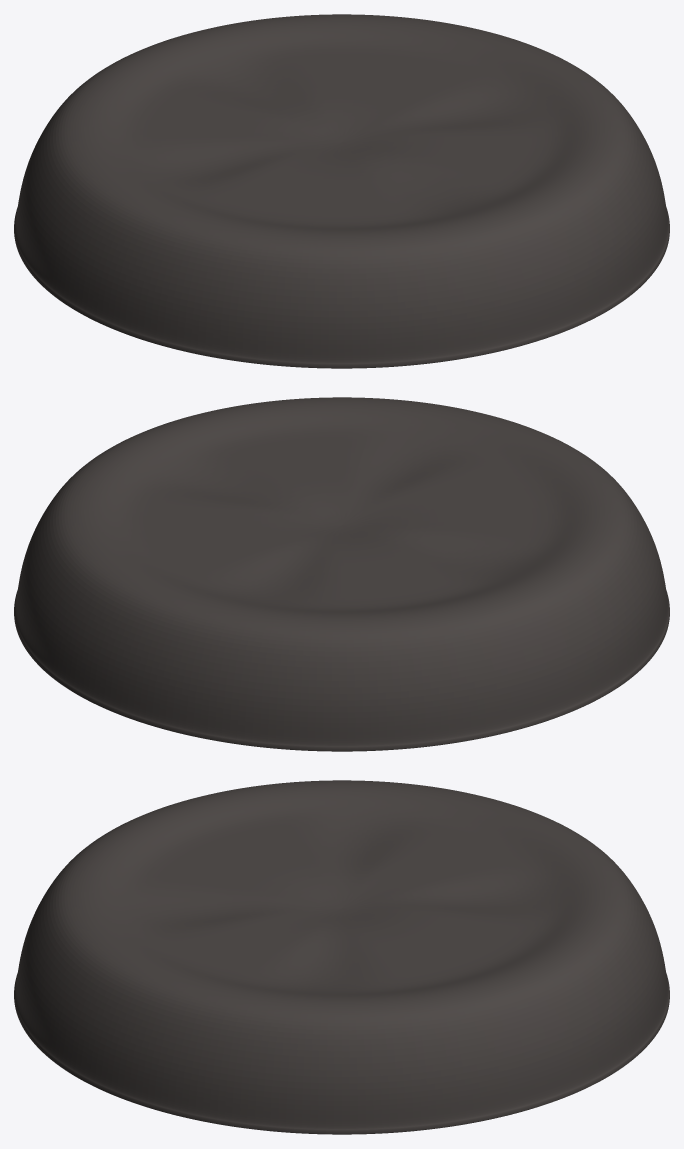
Rendered from ThinMint.obj.
3 views of the same model, one above another, from view 1: azimuth 30°, elevation 25°; view 2: azimuth 150°, elevation 25°; view 3: azimuth 270°, elevation 25° (orthographic).
Visible parts, largest first — view 1: Thin_Mint_Cylinder.001; view 2: Thin_Mint_Cylinder.001; view 3: Thin_Mint_Cylinder.001.
Part boxes in pixels (x1=…): Thin_Mint_Cylinder.001: x1=14, y1=14, x2=669, y2=368; Thin_Mint_Cylinder.001: x1=14, y1=397, x2=669, y2=751; Thin_Mint_Cylinder.001: x1=14, y1=780, x2=669, y2=1134.
Bounding box in the file's own units: 2 × 0.3429 × 2.
